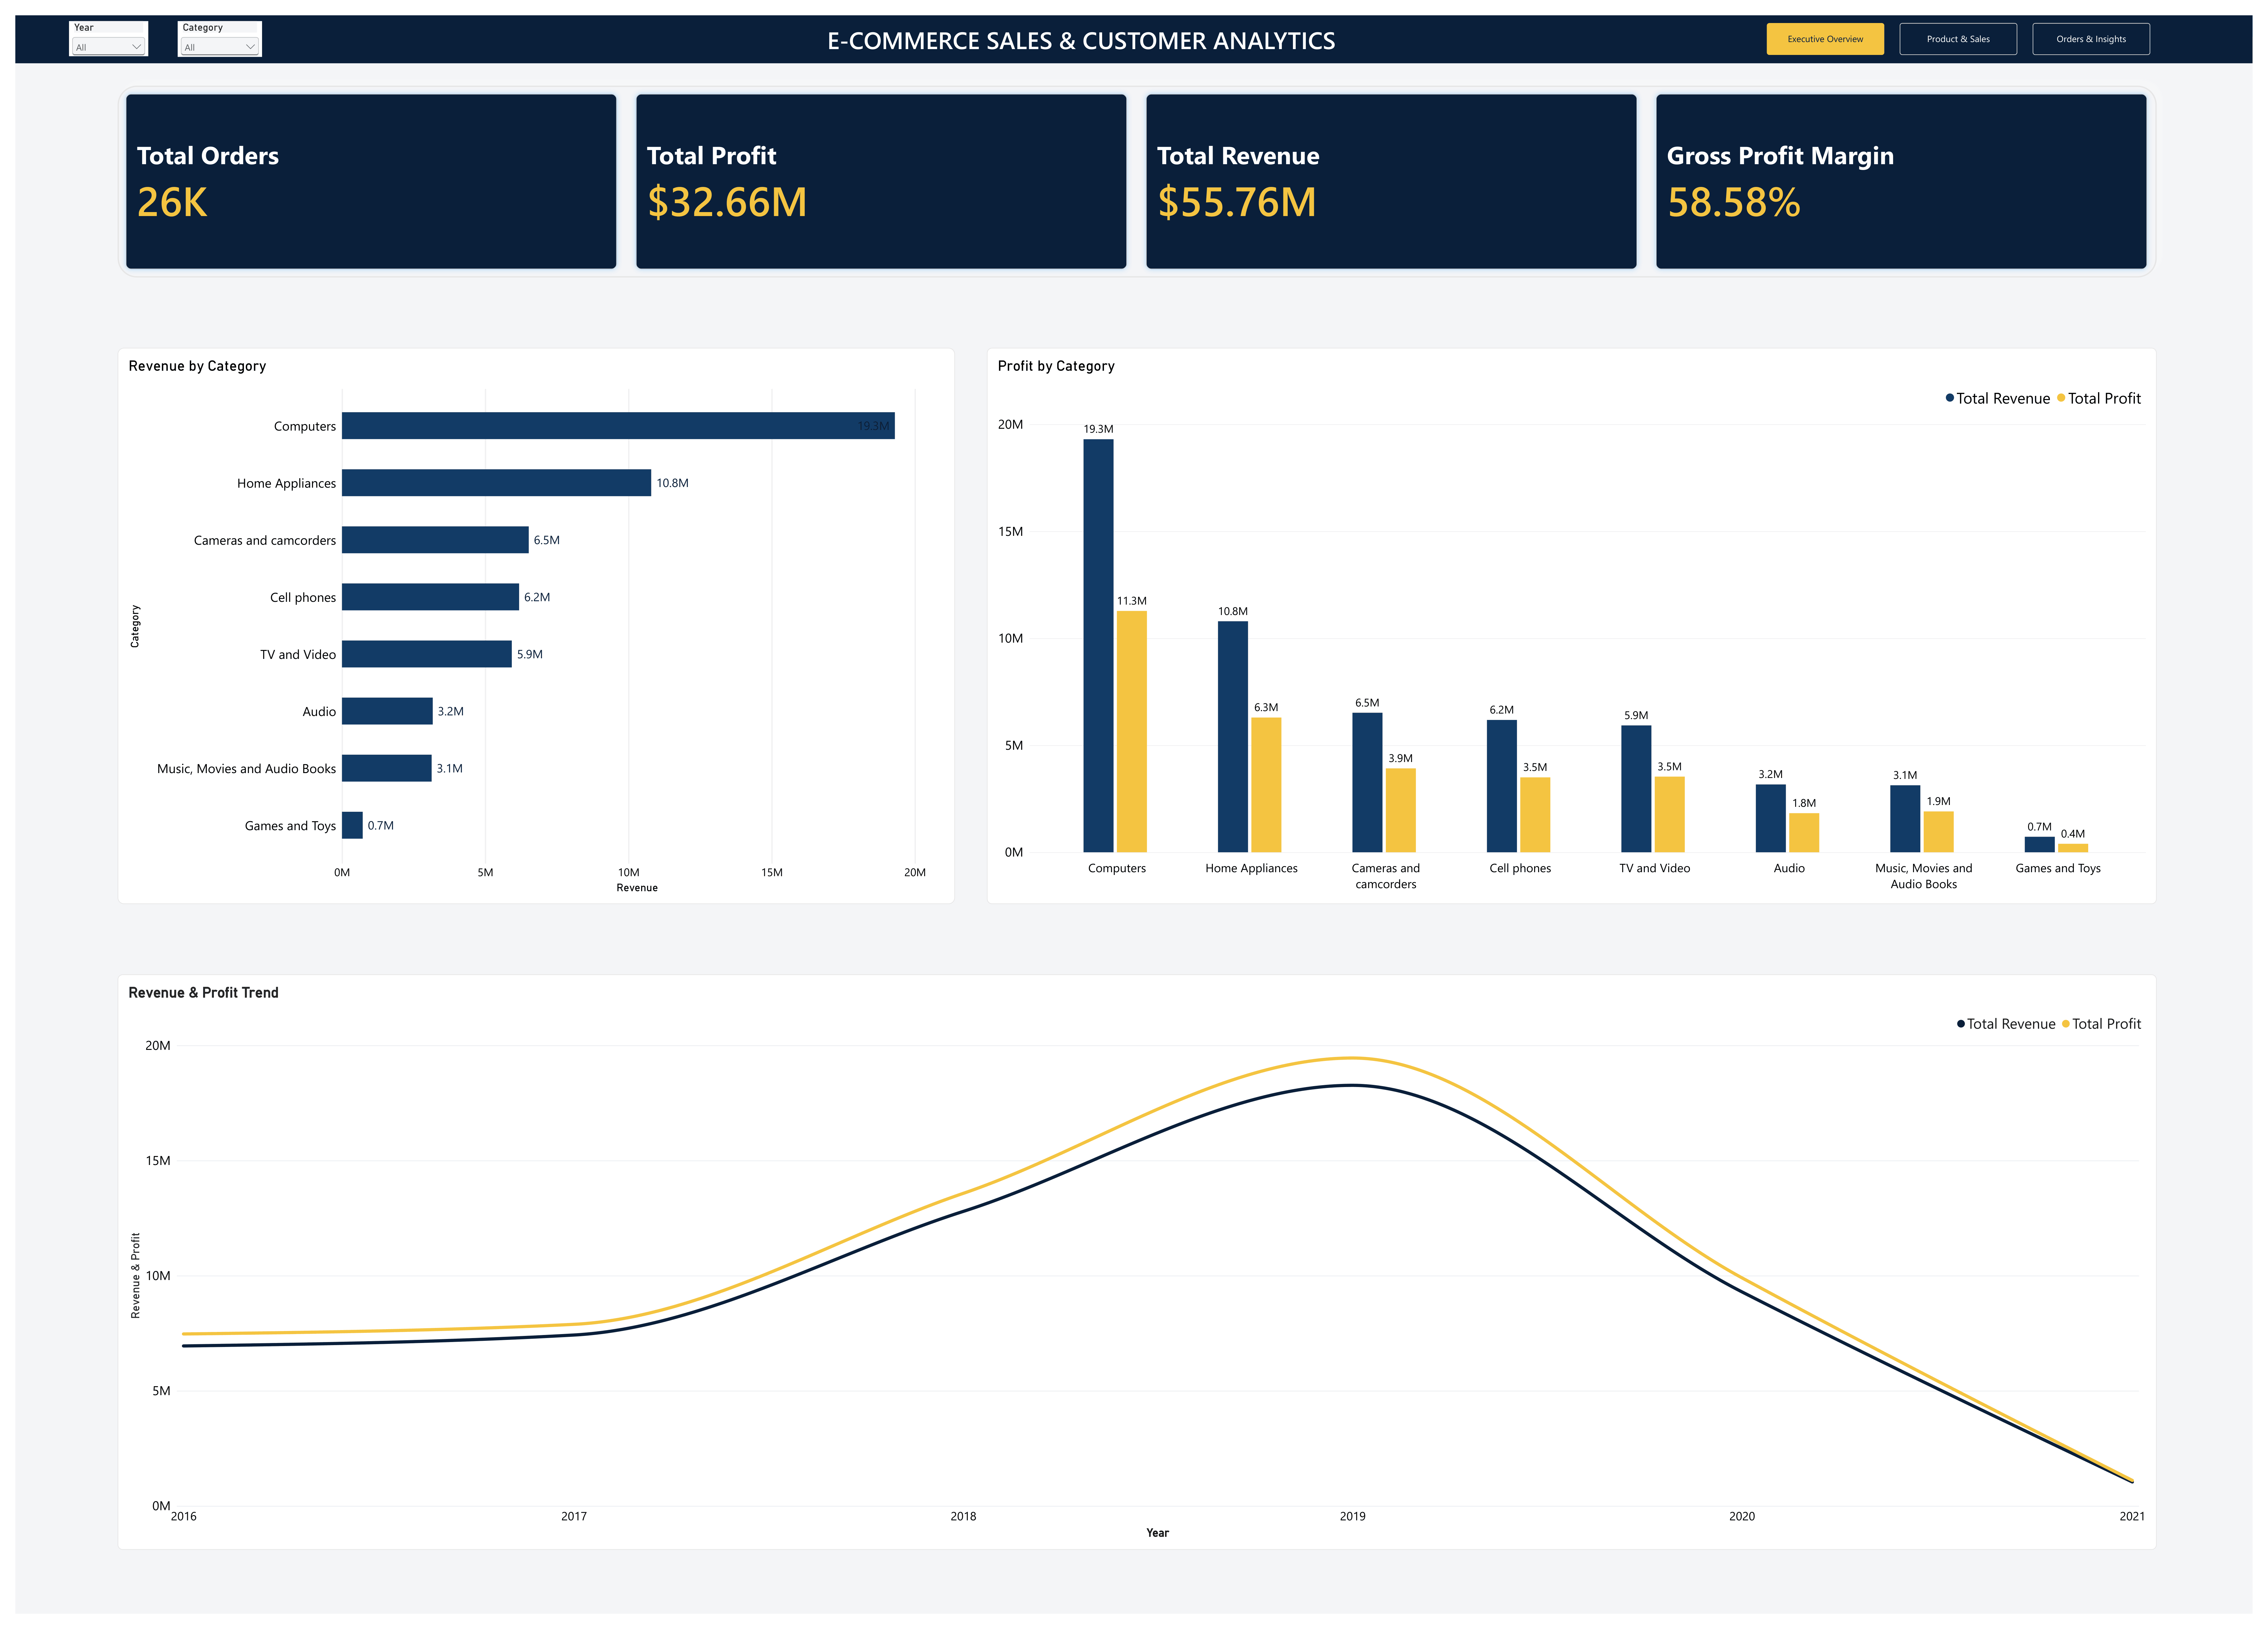

Layout of this report page (visuals, bound fields, positions):
{"tool":"powerbi","page":{"name":"Executive Overview","canvas":[3500,2500],"ordinal":0},"visuals":[{"type":"cardVisual","fields":{"Data":["Joined Table.Total Orders","Joined Table.Total Profit","Joined Table.Total Revenue","Joined Table.Gross Profit Margin"]},"box":[160,110,3190,300],"z":0},{"type":"lineChart","title":"Revenue & Profit Trend","fields":{"Category":["Joined Table.Order Date.Variation.Date Hierarchy.Year","Joined Table.Order Date.Variation.Date Hierarchy.Month"],"Y":["Joined Table.Total Revenue"],"Y2":["Joined Table.Total Profit"]},"box":[160,1500,3190,900],"z":1000},{"type":"shape","box":[0,0,3500,75],"z":2000},{"type":"textbox","box":[1270,13.3,959,63],"z":3000},{"type":"clusteredBarChart","title":"Revenue by Category","fields":{"Y":["Joined Table.Total Revenue"],"Category":["Joined Table.Category"]},"box":[160,520,1310,870],"z":4000},{"type":"clusteredColumnChart","title":"Profit by Category","fields":{"Y":["Joined Table.Total Revenue","Joined Table.Total Profit"],"Category":["Joined Table.Category"]},"box":[1520,520,1830,870],"z":5000},{"type":"pageNavigator","box":[2740,11.8,600,50],"z":6000},{"type":"slicer","fields":{"Values":["Joined Table.Order Date.Variation.Date Hierarchy.Year"]},"box":[84,9,124,55],"z":7000},{"type":"slicer","fields":{"Values":["Joined Table.Category"]},"box":[254,9,132,56],"z":8000}]}

Visuals, with their boxes on the page's 3500x2500 design canvas (x1, y1, x2, y2). These are canvas units, not pixel positions in the 2268x1629 screenshot, which may show the page scaled, cropped or inside an application window:
cardVisual - Joined Table.Total Orders x Joined Table.Total Profit: <region>160, 110, 3350, 410</region>
"Revenue & Profit Trend" lineChart: <region>160, 1500, 3350, 2400</region>
shape: <region>0, 0, 3500, 75</region>
textbox: <region>1270, 13, 2229, 76</region>
"Revenue by Category" clusteredBarChart: <region>160, 520, 1470, 1390</region>
"Profit by Category" clusteredColumnChart: <region>1520, 520, 3350, 1390</region>
pageNavigator: <region>2740, 12, 3340, 62</region>
slicer - Joined Table.Order Date.Variation.Date Hierarchy.Year: <region>84, 9, 208, 64</region>
slicer - Joined Table.Category: <region>254, 9, 386, 65</region>
